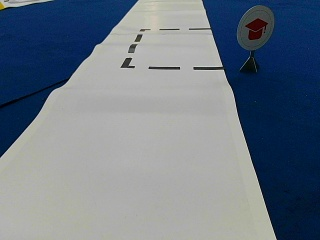school: (235, 5, 274, 50)
